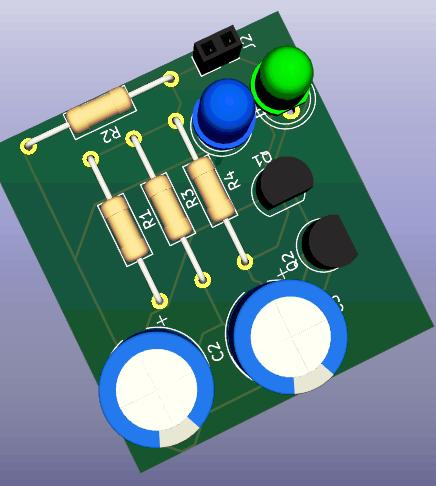blue_led: (191, 78, 257, 153)
capacitor: (96, 326, 215, 449), (225, 279, 348, 395)
green_led: (254, 45, 315, 114)
resistor: (67, 81, 136, 135), (144, 174, 196, 245), (185, 154, 236, 223), (99, 195, 147, 265), (198, 320, 228, 359)
transistor: (255, 155, 314, 212), (301, 214, 358, 272)
